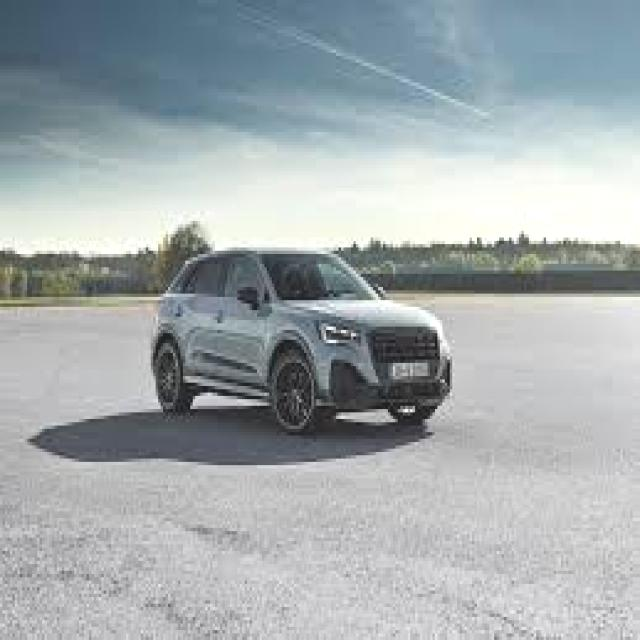SUV: (148, 247, 454, 439)
